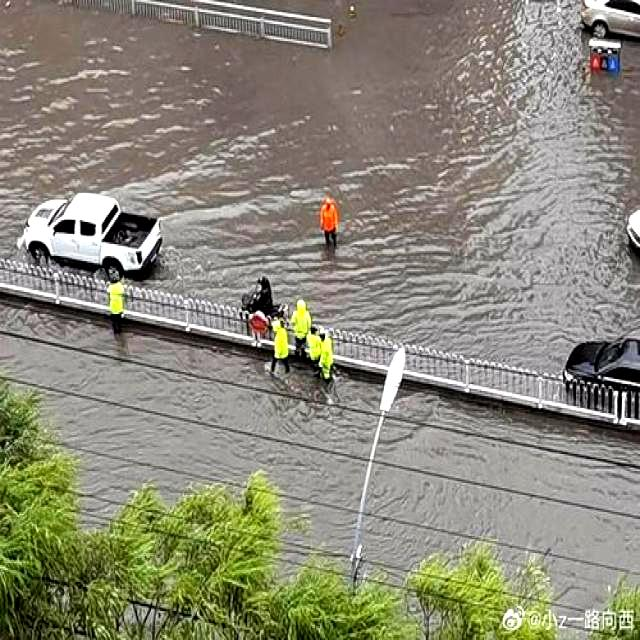rescuer: (97, 275, 133, 348), (317, 191, 344, 256), (317, 327, 343, 392), (267, 319, 292, 384), (287, 301, 314, 347), (305, 324, 328, 371)
